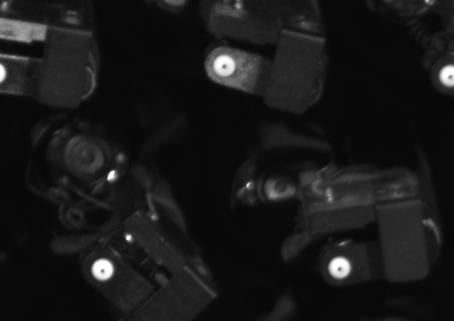fiber: (209, 51, 243, 83), (87, 255, 119, 287), (322, 253, 356, 283), (435, 60, 454, 93)
